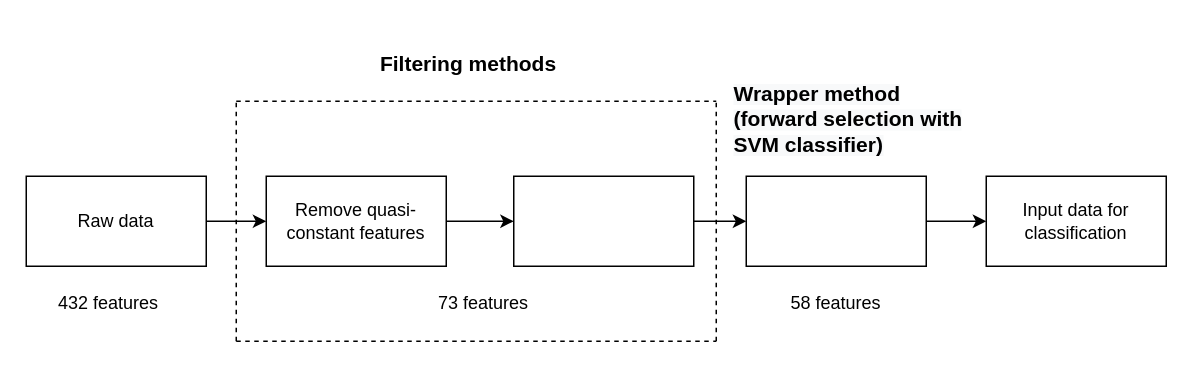
Image size: 1193x369. Some labels were removed from this diagram. Each missing label, with the box of its shape:
Elimilate less important features: (745, 175, 926, 266)
Remove correlated features: (512, 175, 694, 266)
